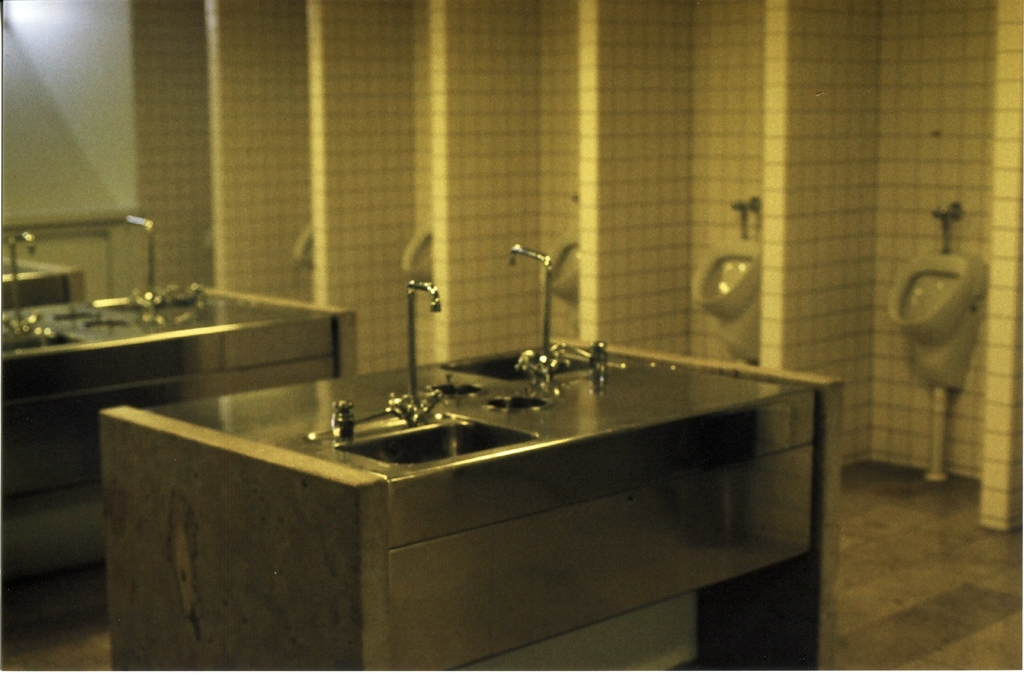tap: (483, 217, 597, 398), (377, 261, 446, 431)
